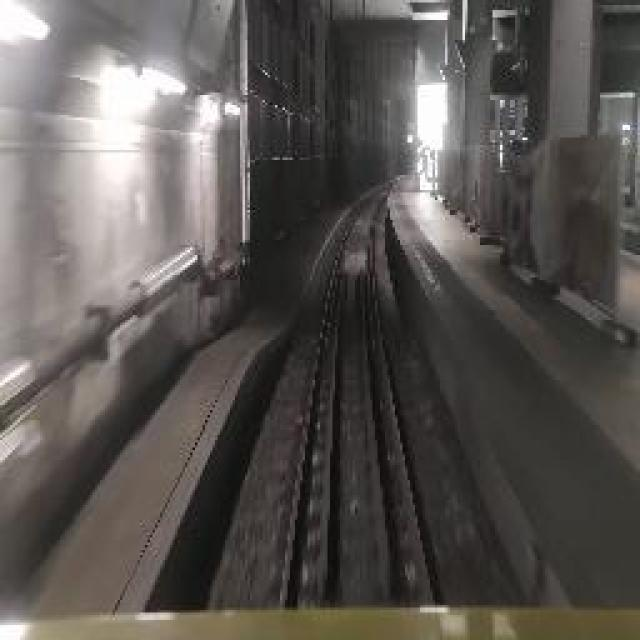rail: (259, 168, 451, 616)
